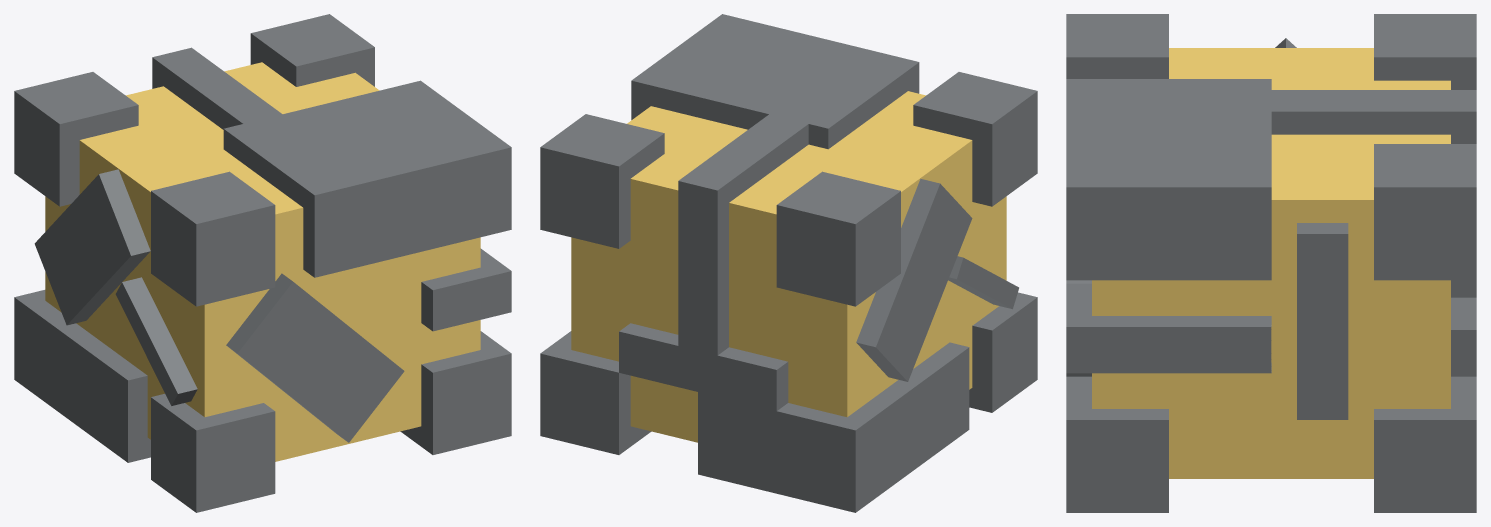
File: planet_gold.gltf
3 views of the same model, side by side, from view 1: azimuth 30°, elevation 25°; view 2: azimuth 150°, elevation 25°; view 3: azimuth 270°, elevation 25° (orthographic). The views are drawn at different scales.
Parts seen in each view (by area): view 1: mesh (×13); view 2: mesh (×12); view 3: mesh (×11).
Part boxes in pixels (x1,y1,x2,y2): mesh (×13): (14, 14, 511, 512); mesh (×12): (540, 14, 1037, 512); mesh (×11): (1066, 14, 1476, 512).
Bounding box in the file's own units: 1 × 0.875 × 1.
1 material, 1 textured.
